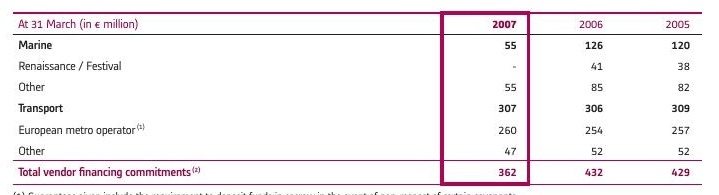table: (0, 0, 719, 195)
